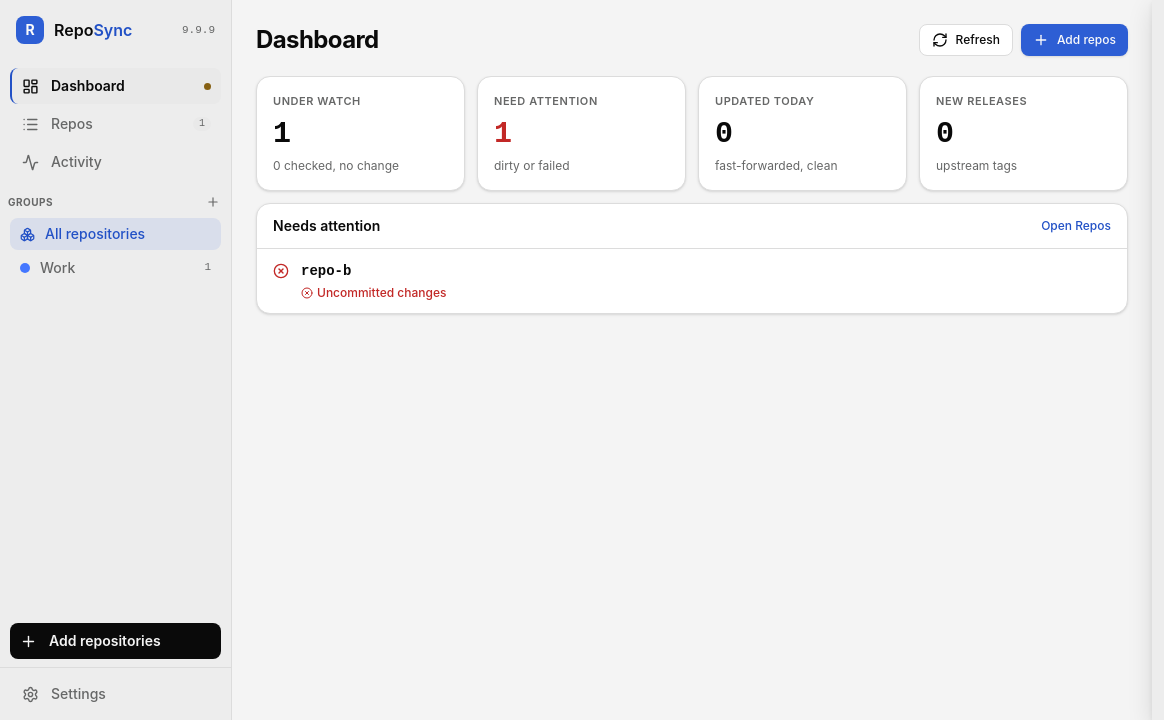
AppShell sidebar › shows the attention dot only when something in scope needs attention (SB3)
Check: the heading "Dashboard" is shown, box [256,26,379,54]
Check: the button "Dashboard" is shown, box [10,68,221,104]
Click the button "Work".
click(107, 268)  # box [10,252,204,284]
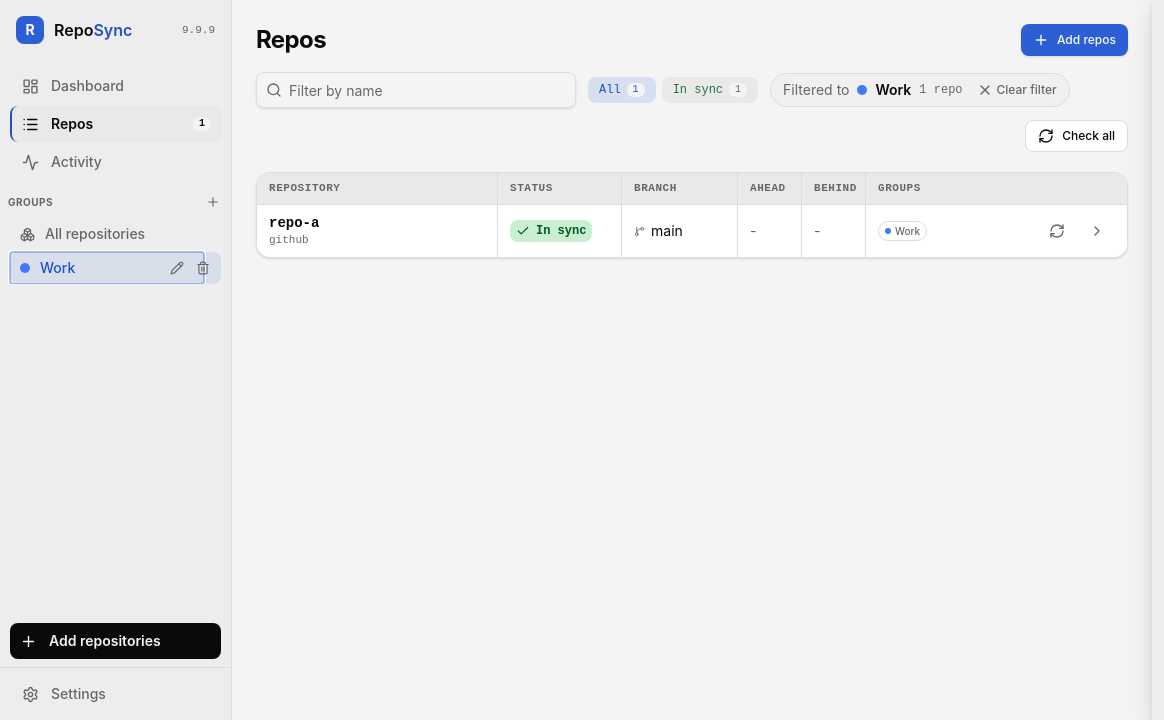
Check: the text "Need attention" is gone
